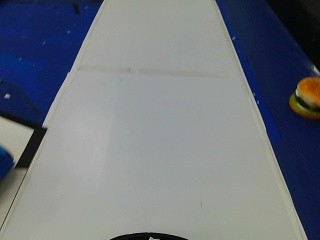burger: (287, 70, 318, 122)
